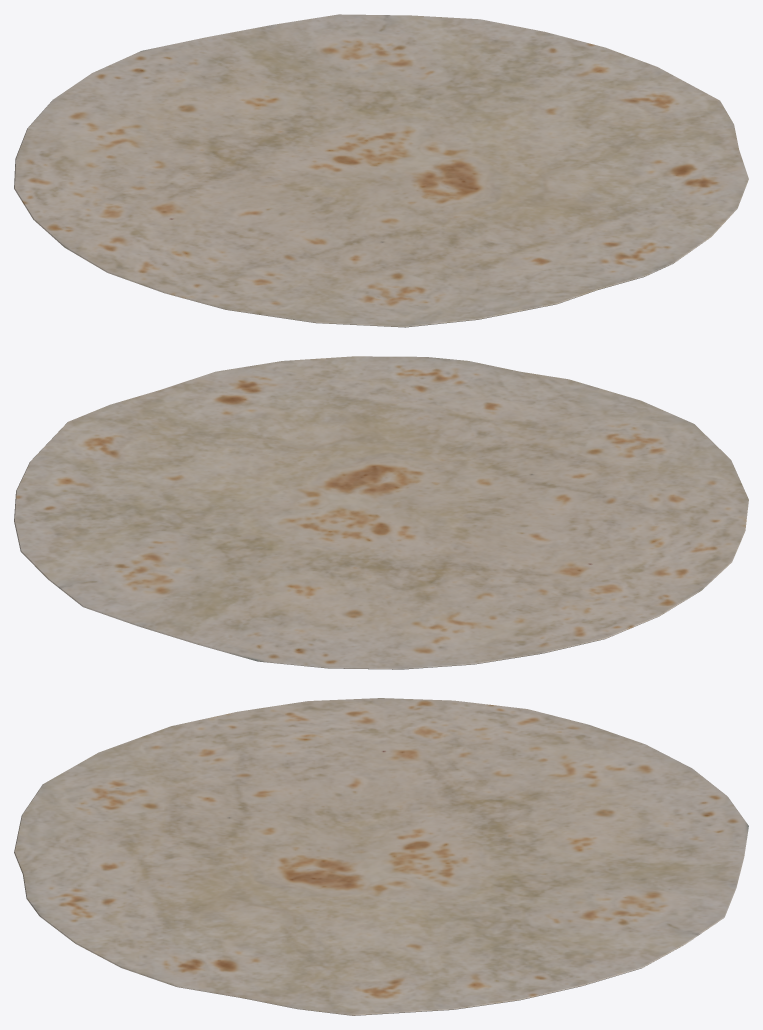
File: shell.fbx
3 views of the same model, one above another, from view 1: azimuth 30°, elevation 25°; view 2: azimuth 150°, elevation 25°; view 3: azimuth 270°, elevation 25° (orthographic).
Visible parts, largest first — view 1: Cylinder; view 2: Cylinder; view 3: Cylinder.
Part boxes in pixels (x1,y1,x2,y2): Cylinder: [14, 14, 748, 327]; Cylinder: [14, 356, 748, 669]; Cylinder: [14, 698, 748, 1015].
Bounding box in the file's own units: 480 × 0.9978 × 470.
